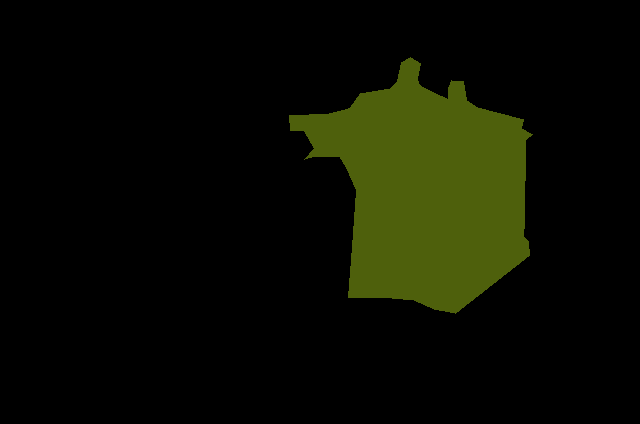Train: (289, 57, 532, 313)
